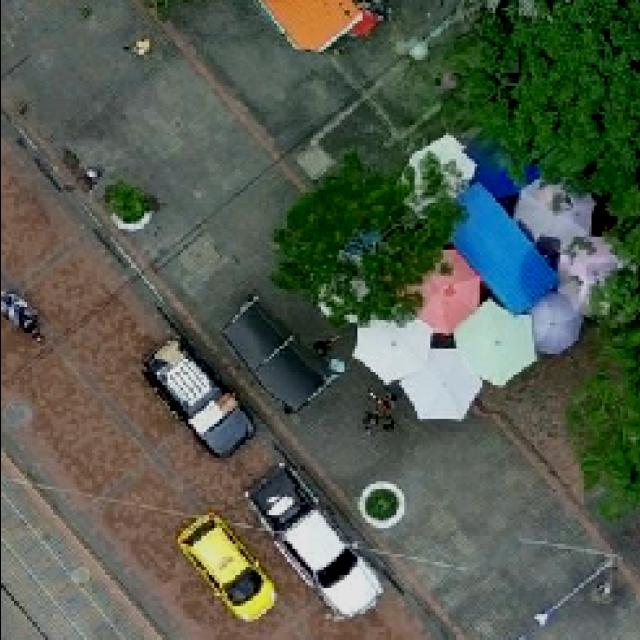vendedor_ambulante: (454, 297, 540, 391), (398, 248, 486, 336), (400, 346, 476, 422), (554, 239, 630, 313), (514, 180, 592, 252), (350, 312, 430, 381), (528, 296, 581, 358)
